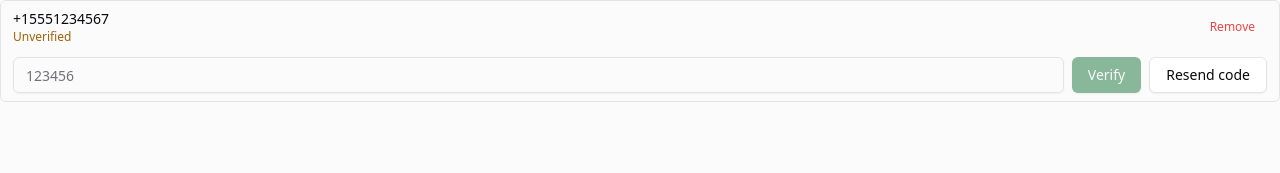
Test case: PhoneNumberRow › shows an error when resend fails
The width and height of the screenshot is (1280, 173).
Click the button "Resend code".
click(1208, 75)  # box [1149, 57, 1267, 93]
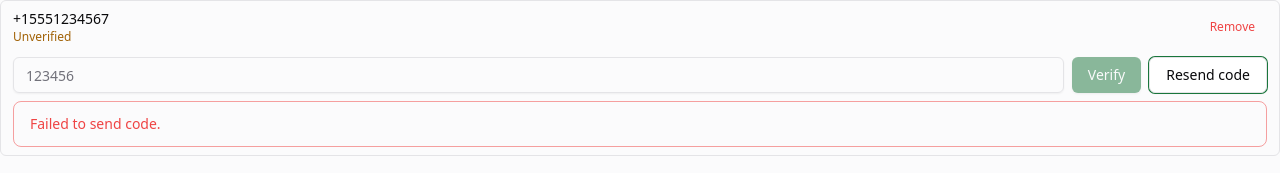
Expected: the text "Failed to send code." is shown, [30, 114, 161, 133]
